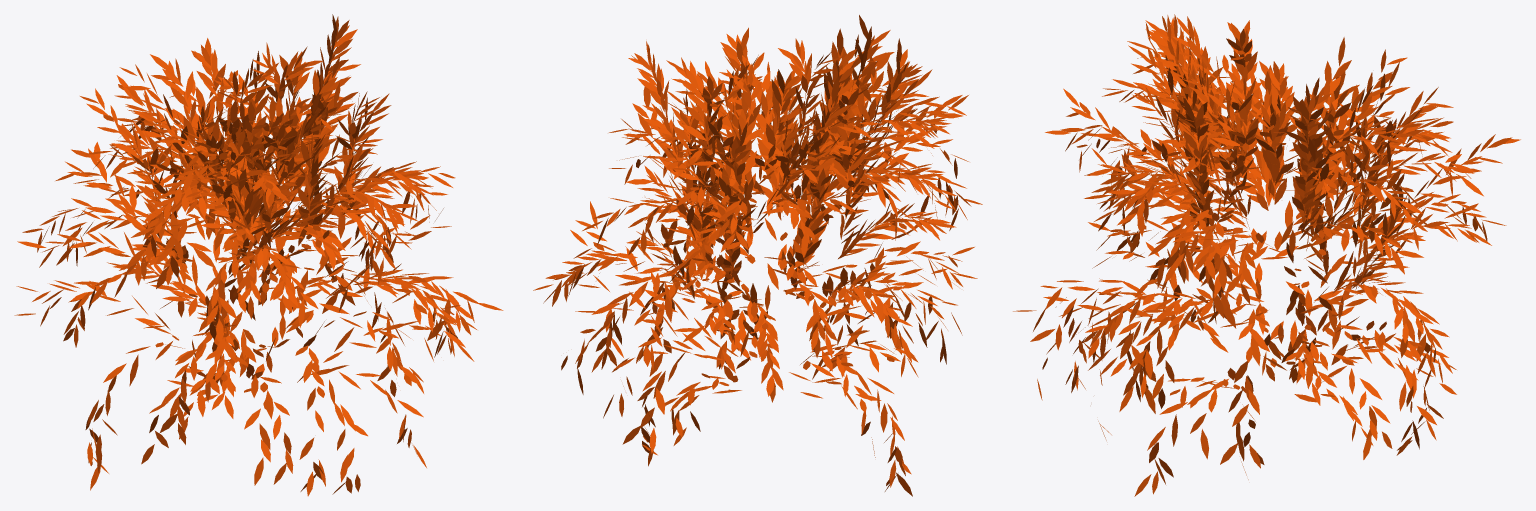
The model's file is tree-autumn-leaves-misc-001-038.glb.
3 views of the same model, side by side, from view 1: azimuth 30°, elevation 25°; view 2: azimuth 150°, elevation 25°; view 3: azimuth 270°, elevation 25° (orthographic). The views are drawn at different scales.
Parts seen in each view (by area): view 1: leaves.001_379; view 2: leaves.001_379; view 3: leaves.001_379.
Part boxes in pixels (box(x1,y1,x2,y2)): leaves.001_379: box(14, 14, 503, 496); leaves.001_379: box(533, 15, 982, 496); leaves.001_379: box(1013, 14, 1520, 496).
Size of the model in its own units: 1.58 by 1.67 by 1.82.
